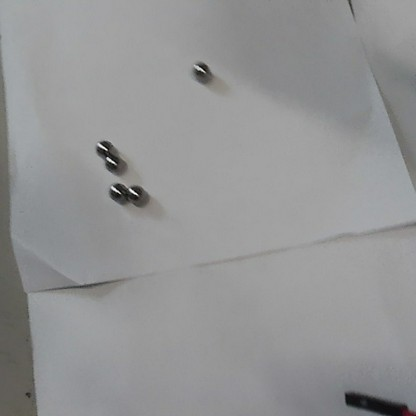ironball: (189, 59, 213, 86), (104, 179, 127, 204), (103, 151, 126, 174), (128, 182, 149, 205), (93, 137, 117, 157)
